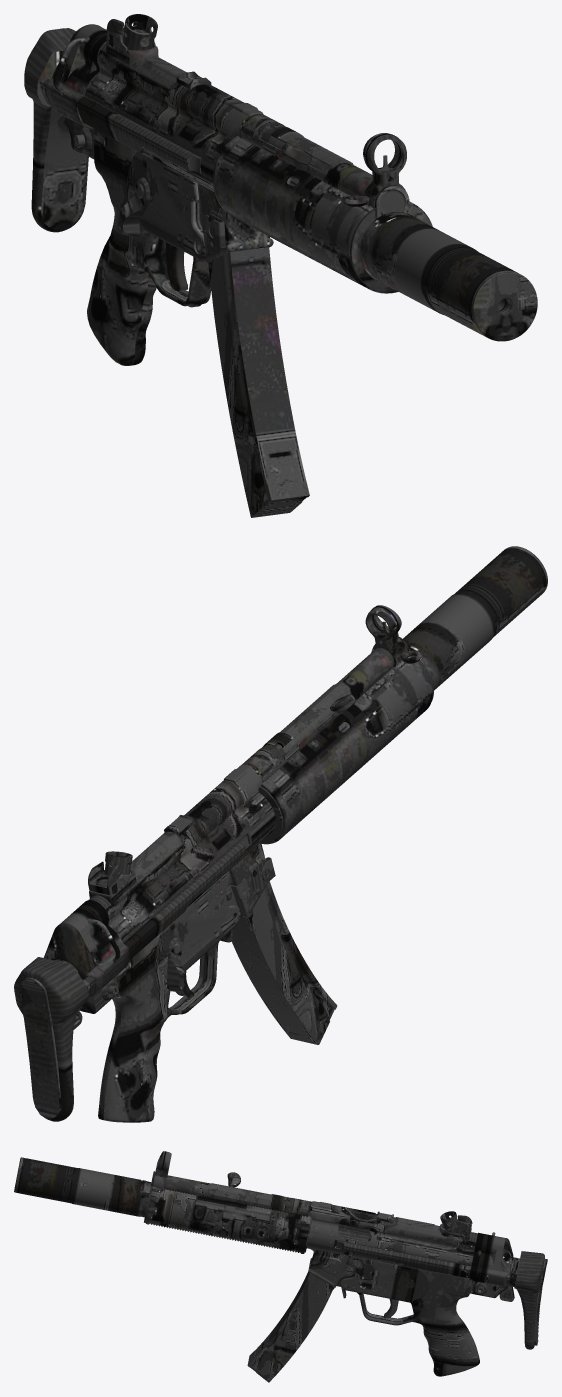
The picture shows the model from 3 angles, top to bottom: view 1: azimuth 30°, elevation 25°; view 2: azimuth 150°, elevation 25°; view 3: azimuth 270°, elevation 25°; orthographic projection. The views are drawn at different scales.
Visible parts, largest first — view 1: p_mp5; view 2: p_mp5; view 3: p_mp5.
Part boxes in pixels (x1,y1,x2,y2): p_mp5: (24, 14, 537, 517); p_mp5: (14, 546, 547, 1122); p_mp5: (14, 1151, 547, 1382).
Bounding box in the file's own units: 0.1245 × 0.3832 × 0.812.
1 material, 1 textured.
